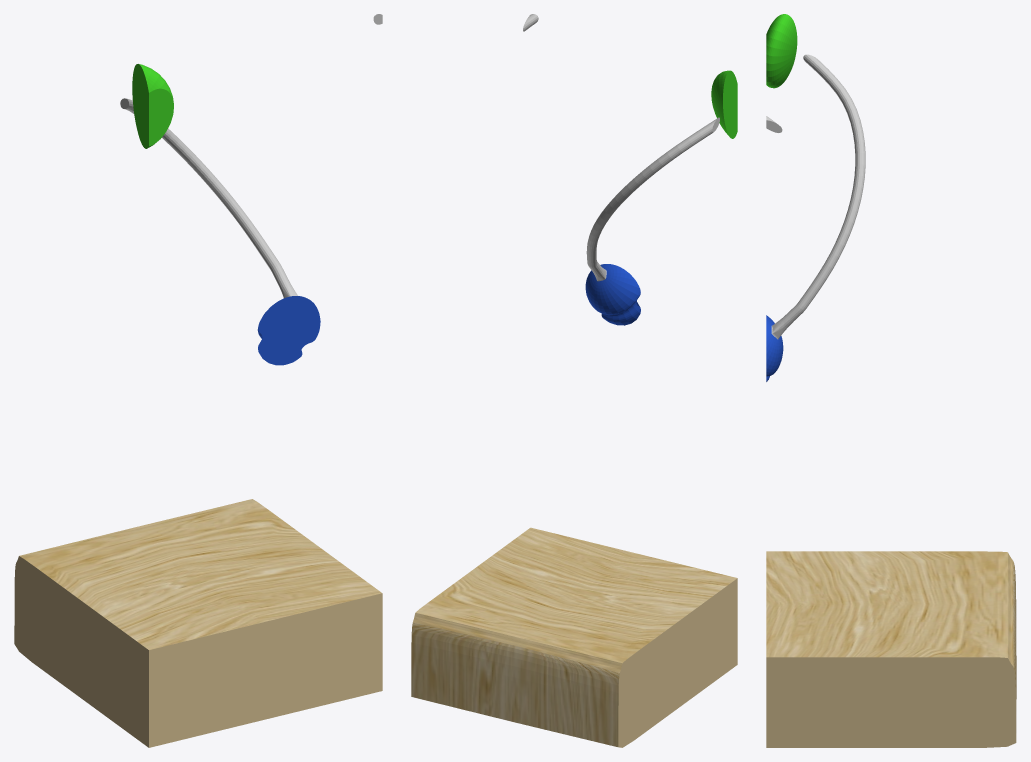
Rendered from 1_Motorikschleife subdiv.fbx.
3 views of the same model, side by side, from view 1: azimuth 30°, elevation 25°; view 2: azimuth 150°, elevation 25°; view 3: azimuth 270°, elevation 25° (orthographic). The views are drawn at different scales.
Parts seen in each view (by area): view 1: Cube.001; view 2: Cube.001; view 3: Cube.001.
Boxes of the visible parts, bbox=[...] form: Cube.001: bbox=[14, 14, 382, 747]; Cube.001: bbox=[411, 14, 737, 747]; Cube.001: bbox=[766, 14, 1016, 747].
Size of the model in its own units: 500 by 1387 by 499.
